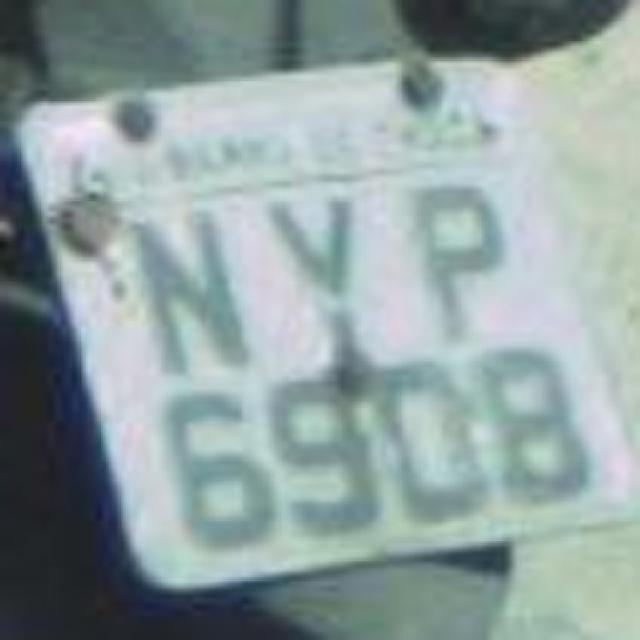0: (349, 336, 516, 536)
6: (144, 364, 288, 564)
8: (460, 328, 605, 520)
9: (248, 360, 400, 540)
N: (116, 196, 256, 389)
P: (391, 164, 524, 351)
